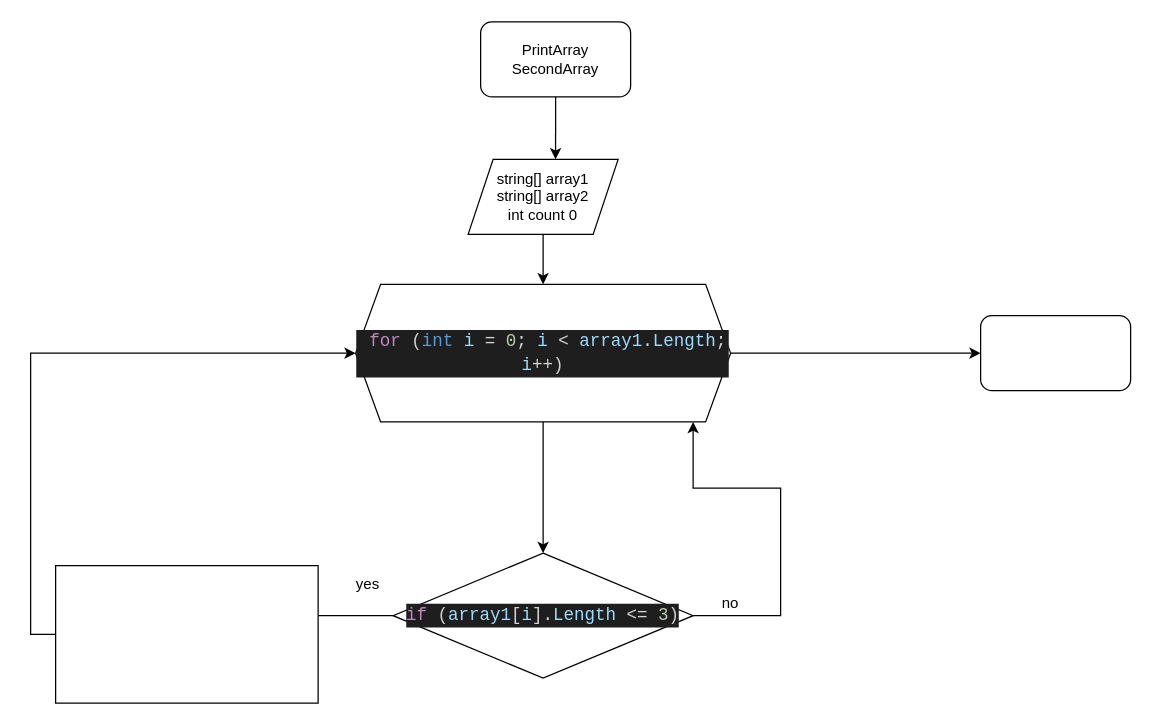
Some shapes in this 1153 by 725 pixel diagram are drawn without their labels. The centre of each missing label's shape, as x and y in pixels:
"array2 [ count ] = array1 [ i ]; count ++;" belongs at [186,633].
"PrintArray" belongs at [1055,352].
